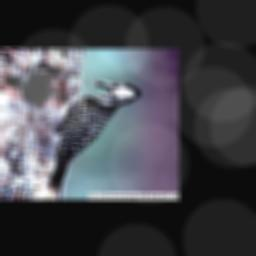Woodpecker: (36, 78, 143, 189)
